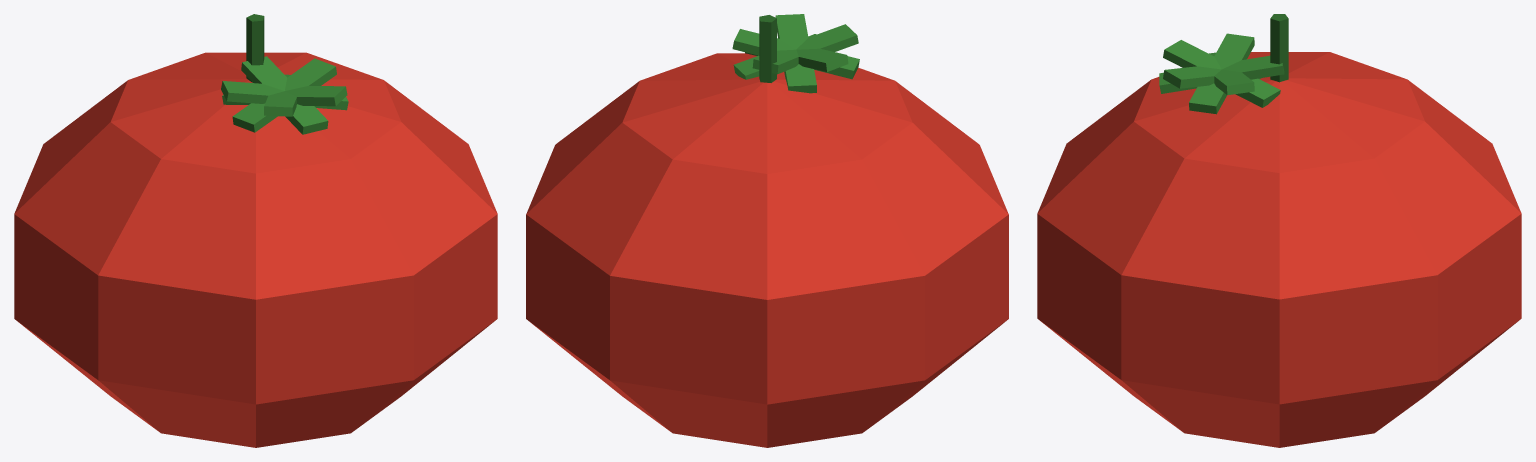
File: uprawa-pomidor.glb
3 views of the same model, side by side, from view 1: azimuth 30°, elevation 25°; view 2: azimuth 150°, elevation 25°; view 3: azimuth 270°, elevation 25° (orthographic).
Parts seen in each view (by area): view 1: uprawa-pomidor-0, uprawa-pomidor-5, uprawa-pomidor-1, uprawa-pomidor-2, uprawa-pomidor-4, uprawa-pomidor-6, uprawa-pomidor-3; view 2: uprawa-pomidor-0, uprawa-pomidor-4, uprawa-pomidor-3, uprawa-pomidor-6, uprawa-pomidor-5, uprawa-pomidor-2, uprawa-pomidor-1; view 3: uprawa-pomidor-0, uprawa-pomidor-2, uprawa-pomidor-3, uprawa-pomidor-1, uprawa-pomidor-6, uprawa-pomidor-4, uprawa-pomidor-5.
Boxes of the visible parts, x1,y1,x2,y2 form: uprawa-pomidor-0: (14,52,497,447); uprawa-pomidor-5: (232,58,336,132); uprawa-pomidor-1: (241,56,328,134); uprawa-pomidor-2: (221,81,348,110); uprawa-pomidor-4: (222,86,347,106); uprawa-pomidor-6: (246,14,264,82); uprawa-pomidor-3: (264,74,296,116); uprawa-pomidor-0: (526,53,1008,447); uprawa-pomidor-4: (775,14,816,93); uprawa-pomidor-3: (733,24,858,79); uprawa-pomidor-6: (759,15,776,82); uprawa-pomidor-5: (732,29,859,79); uprawa-pomidor-2: (745,48,848,71); uprawa-pomidor-1: (752,34,816,74); uprawa-pomidor-0: (1037,52,1521,447); uprawa-pomidor-2: (1189,33,1254,114); uprawa-pomidor-3: (1163,40,1280,107); uprawa-pomidor-1: (1159,55,1284,93); uprawa-pomidor-6: (1270,14,1288,82); uprawa-pomidor-4: (1163,66,1261,88); uprawa-pomidor-5: (1209,52,1254,95).
Size of the model in its own units: 0.9926 by 0.92 by 1.01.
